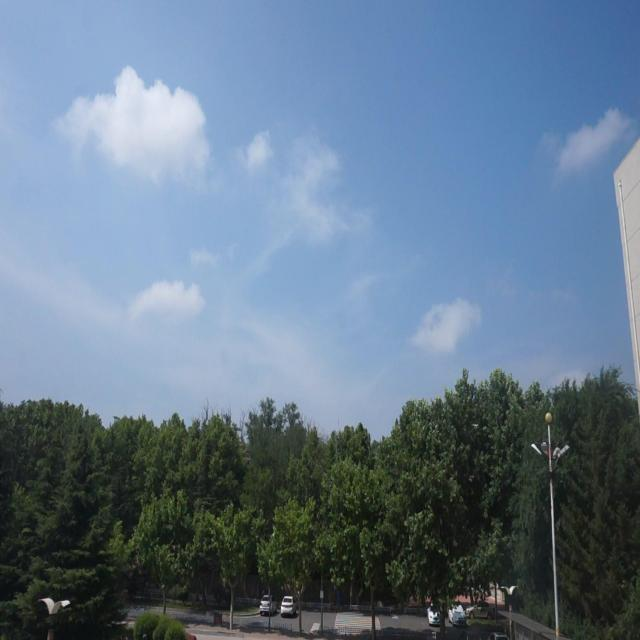UAV: (472, 424, 479, 428)
